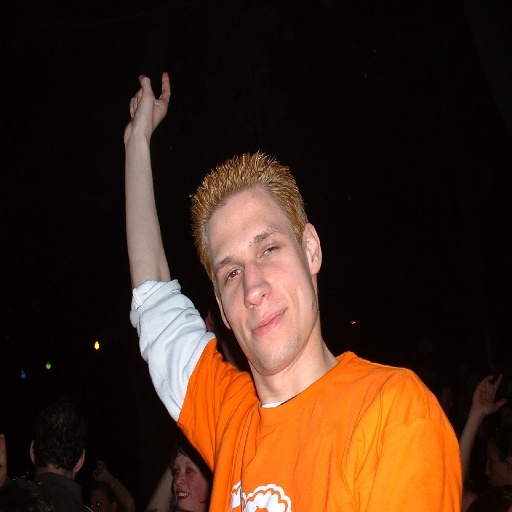hand: (115, 50, 178, 267), (120, 72, 171, 147), (470, 373, 508, 418)
